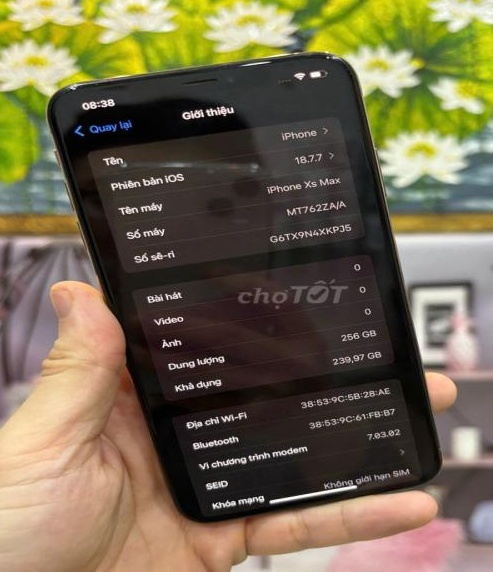scratch: (45, 77, 101, 105)
